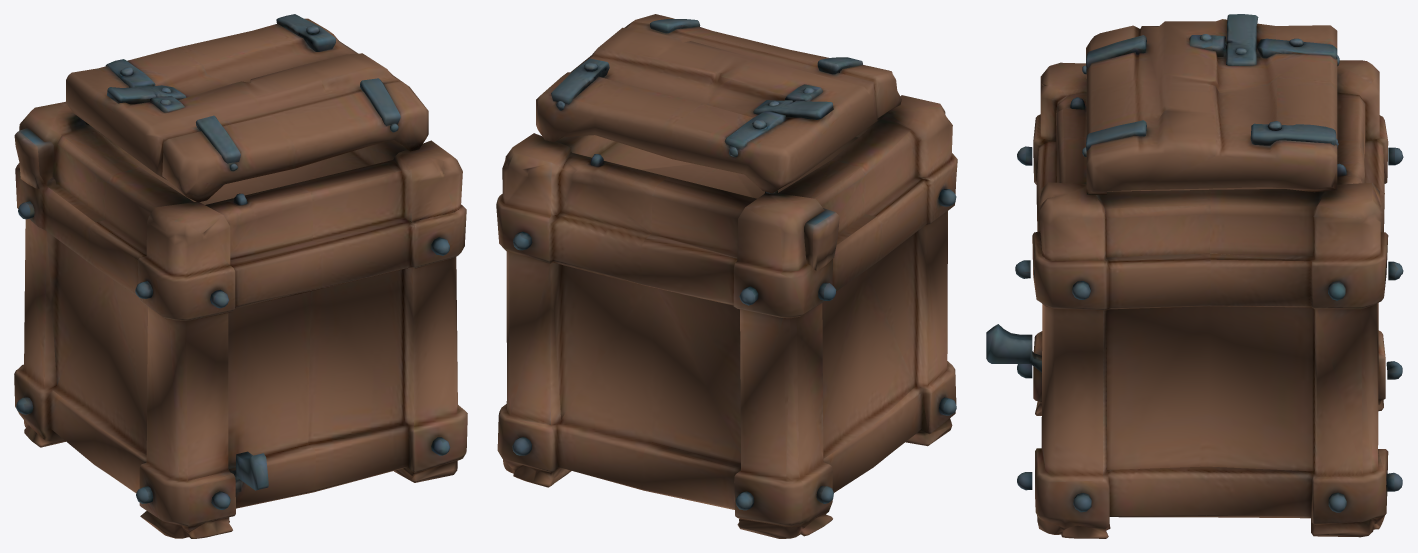
The model's file is prop_crate.glb.
3 views of the same model, side by side, from view 1: azimuth 30°, elevation 25°; view 2: azimuth 150°, elevation 25°; view 3: azimuth 270°, elevation 25° (orthographic). The views are drawn at different scales.
Visible parts, largest first — view 1: tripo_node_0cfcbabf-326f-493c-90a8-8ba2765660b9; view 2: tripo_node_0cfcbabf-326f-493c-90a8-8ba2765660b9; view 3: tripo_node_0cfcbabf-326f-493c-90a8-8ba2765660b9.
Boxes of the visible parts, left/top/right/bottom form: tripo_node_0cfcbabf-326f-493c-90a8-8ba2765660b9: left=14, top=14, right=467, bottom=538; tripo_node_0cfcbabf-326f-493c-90a8-8ba2765660b9: left=496, top=14, right=957, bottom=538; tripo_node_0cfcbabf-326f-493c-90a8-8ba2765660b9: left=986, top=14, right=1403, bottom=538.
Bounding box in the file's own units: 0.9082 × 0.998 × 0.959.
1 material, 1 textured.
